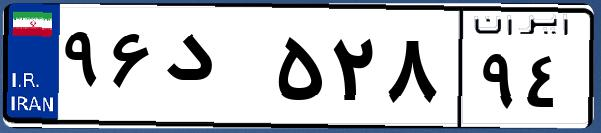2: (330, 28, 385, 110)
4: (525, 38, 570, 115)
5: (270, 28, 330, 110)
6: (110, 28, 158, 98)
8: (385, 28, 445, 110)
9: (57, 26, 110, 100), (475, 38, 525, 113)
د: (158, 20, 270, 120)
